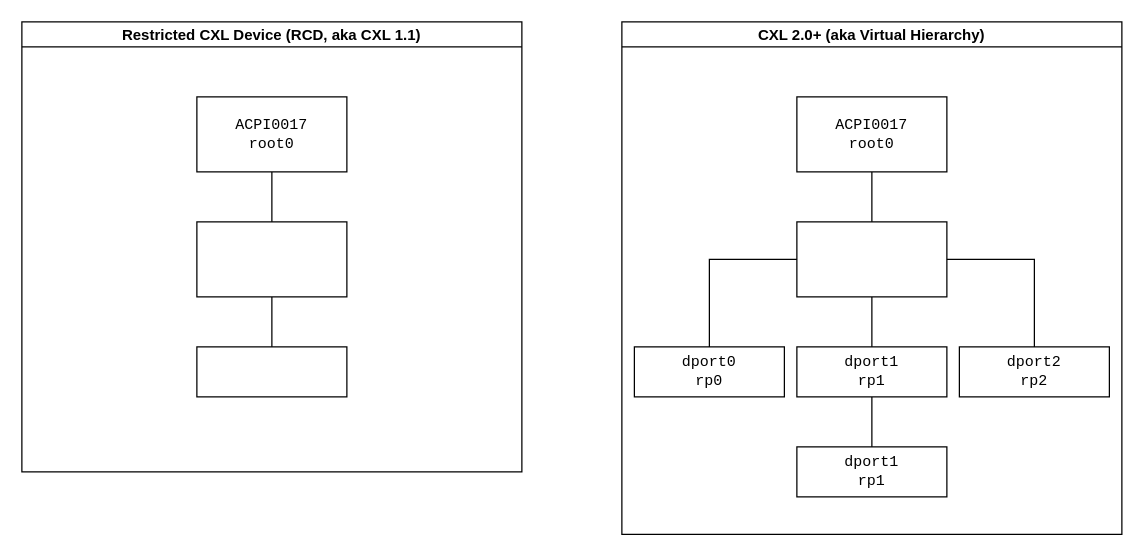
This 1144x556 diagram has some shape labels left out. The shapes that lost their labels are listed below. From the top down, each one's centre as x and y in pixels, then its label:
pixel 271 259: dport0 ACPI0016 (HB)
pixel 871 259: dport0 ACPI0016 (HB) port0
pixel 271 371: endpoint0 port1
